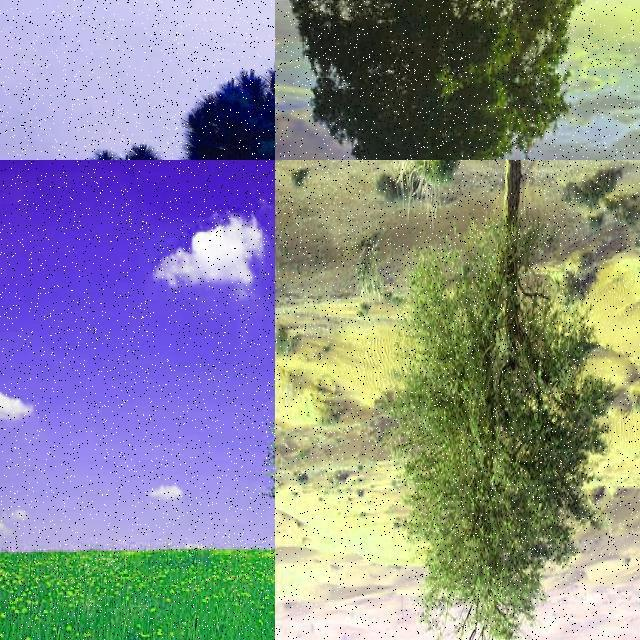tree: (390, 160, 610, 640), (294, 0, 574, 160), (82, 52, 274, 160)
